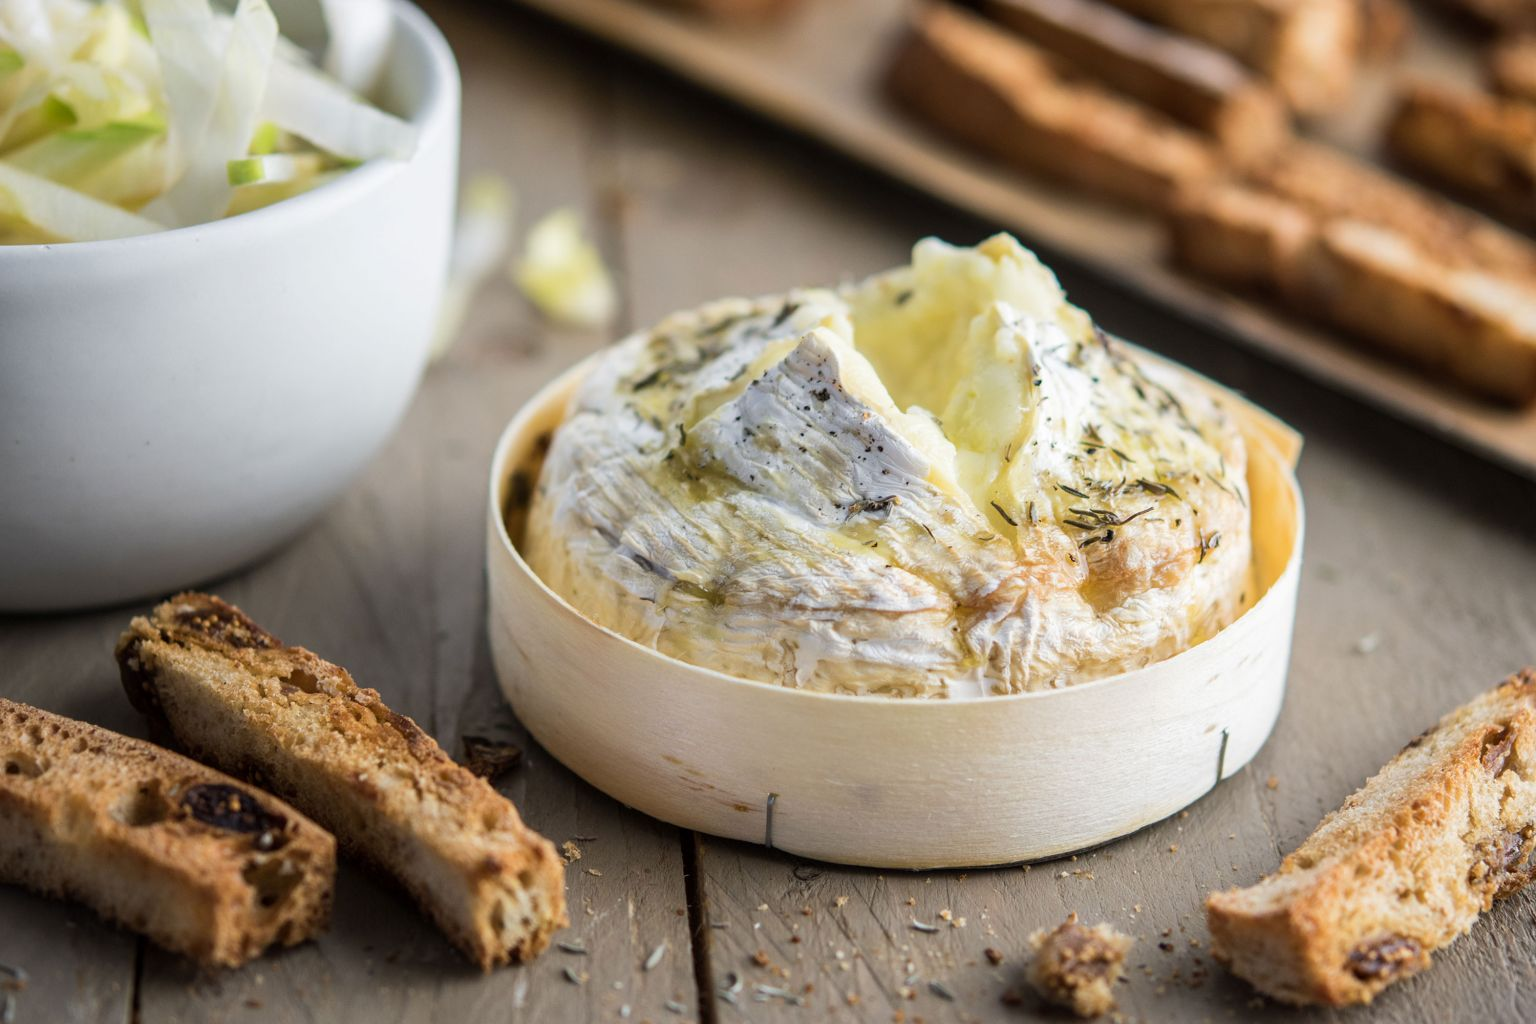camembert: (525, 230, 1269, 705)
